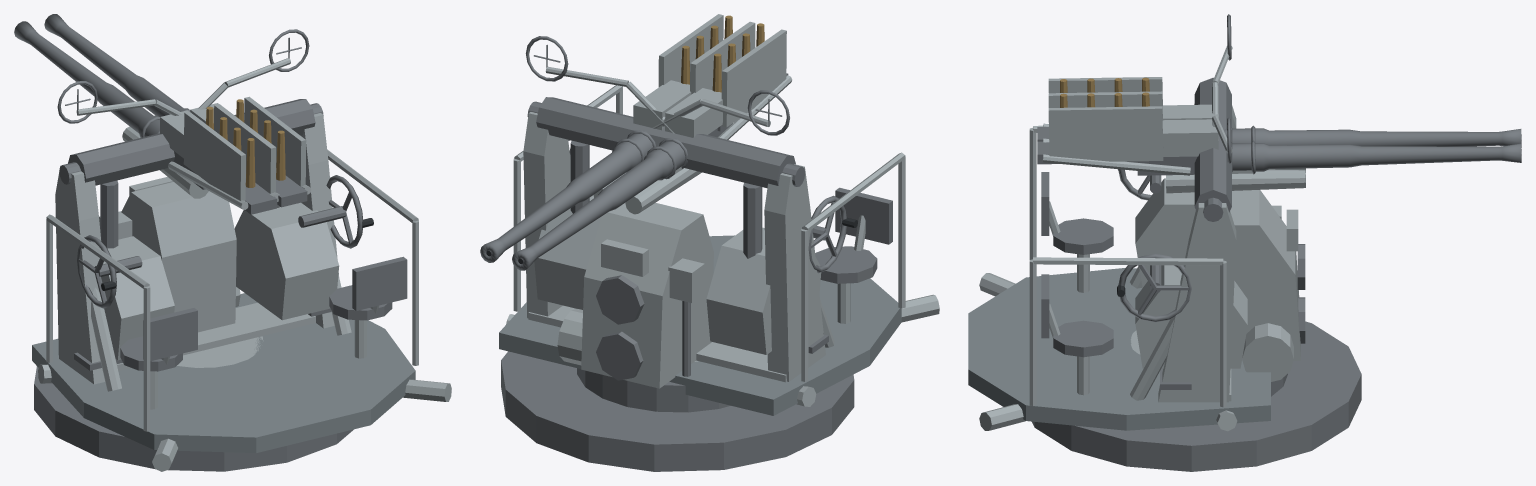
3 views of the same model, side by side, from view 1: azimuth 30°, elevation 25°; view 2: azimuth 150°, elevation 25°; view 3: azimuth 270°, elevation 25° (orthographic). The views are drawn at different scales.
Visible parts, largest first — view 1: component.yaw.mesh, component.left.recoil.mesh, component.base.mesh, component.right.recoil.mesh, component.right.elevation.mesh, component.left.elevation.mesh; view 2: component.yaw.mesh, component.base.mesh, component.left.recoil.mesh, component.right.recoil.mesh, component.left.elevation.mesh, component.right.elevation.mesh; view 3: component.yaw.mesh, component.right.recoil.mesh, component.base.mesh, component.left.recoil.mesh, component.right.elevation.mesh.
Boxes of the visible parts, <box> form: component.yaw.mesh: <box>32,99,451,471</box>; component.left.recoil.mesh: <box>14,21,279,214</box>; component.base.mesh: <box>34,366,353,471</box>; component.right.recoil.mesh: <box>44,14,311,207</box>; component.right.elevation.mesh: <box>57,81,182,123</box>; component.left.elevation.mesh: <box>198,29,309,109</box>; component.yaw.mesh: <box>499,85,939,415</box>; component.base.mesh: <box>501,351,854,471</box>; component.left.recoil.mesh: <box>512,22,792,270</box>; component.right.recoil.mesh: <box>480,14,754,262</box>; component.left.elevation.mesh: <box>525,36,681,174</box>; component.right.elevation.mesh: <box>652,90,789,135</box>; component.yaw.mesh: <box>968,77,1305,431</box>; component.right.recoil.mesh: <box>1037,91,1521,193</box>; component.base.mesh: <box>1032,321,1361,471</box>; component.left.recoil.mesh: <box>1037,77,1521,172</box>; component.right.elevation.mesh: <box>1212,14,1252,173</box>.
Size of the model in its own units: 2.42 by 2.54 by 3.84.
